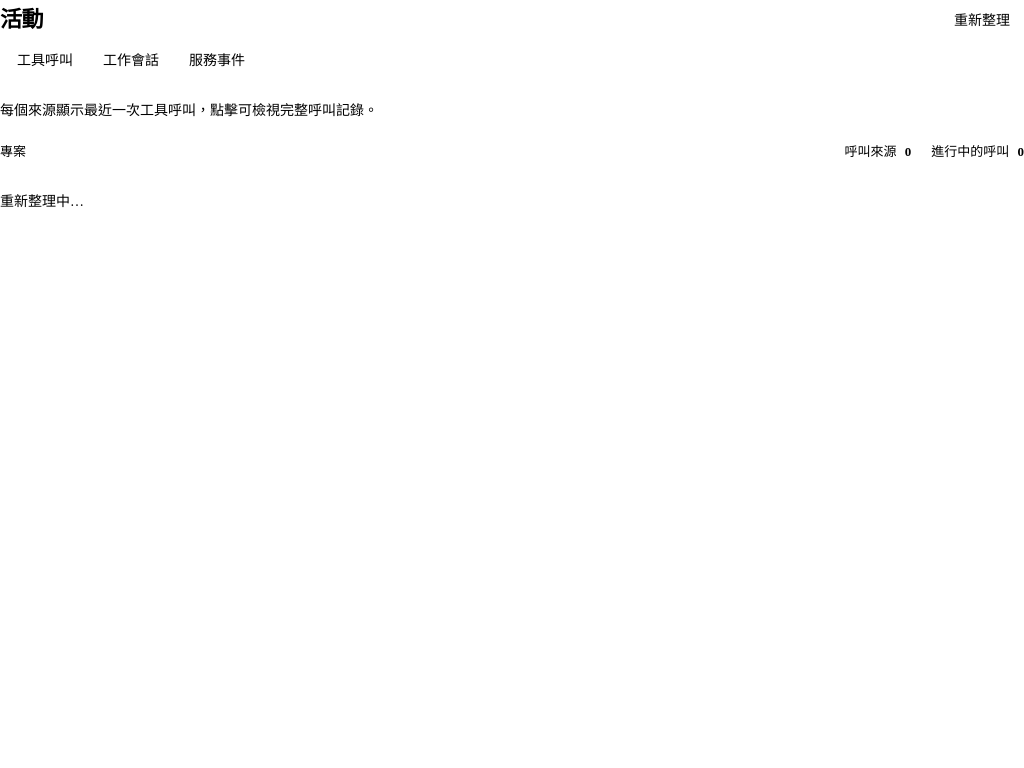
product workspace task flows › localizes passed validation evidence in Traditional Chinese session details
Click the tab "工作會話". click: (131, 60)
box: [89,43,173,77]
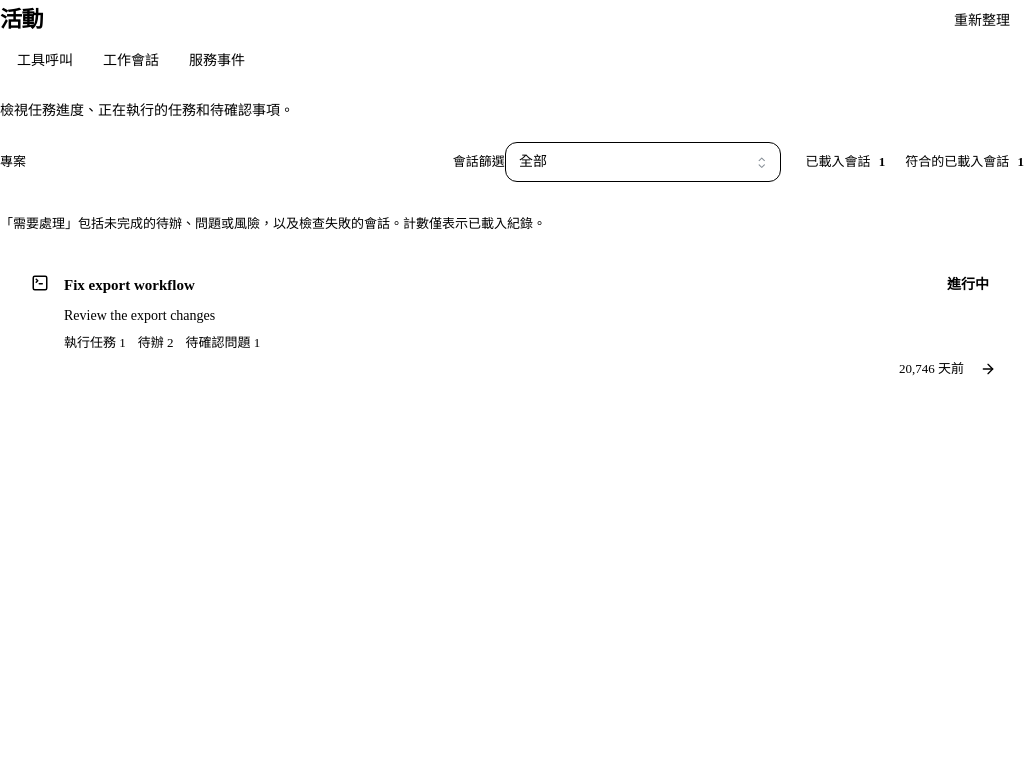
Click the button "Fix export workflow". click: (129, 285)
box: [16,255,1008,396]
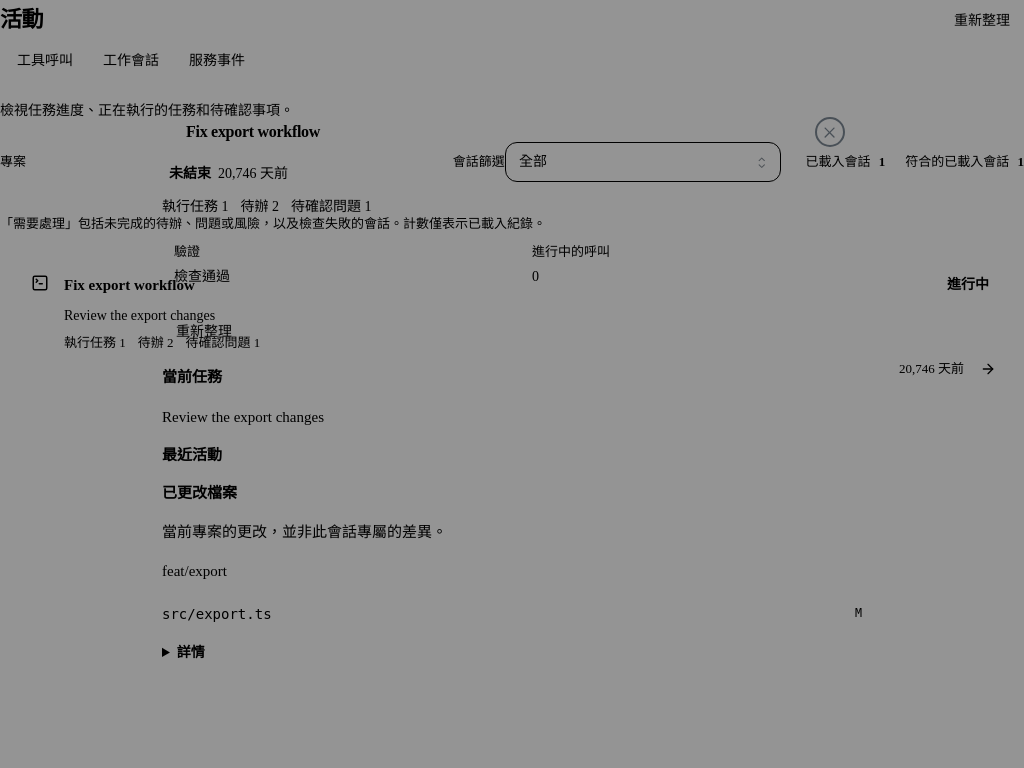
Expected: the text "檢查通過" is shown, [174,269,230,284]
